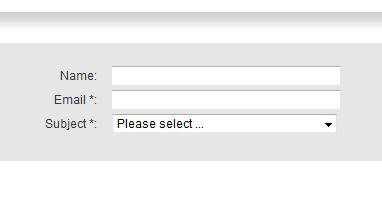field: (105, 89, 344, 111), (106, 65, 344, 87), (110, 113, 341, 135)
field_with_label: (45, 111, 343, 137), (55, 88, 345, 113), (61, 63, 345, 88)
